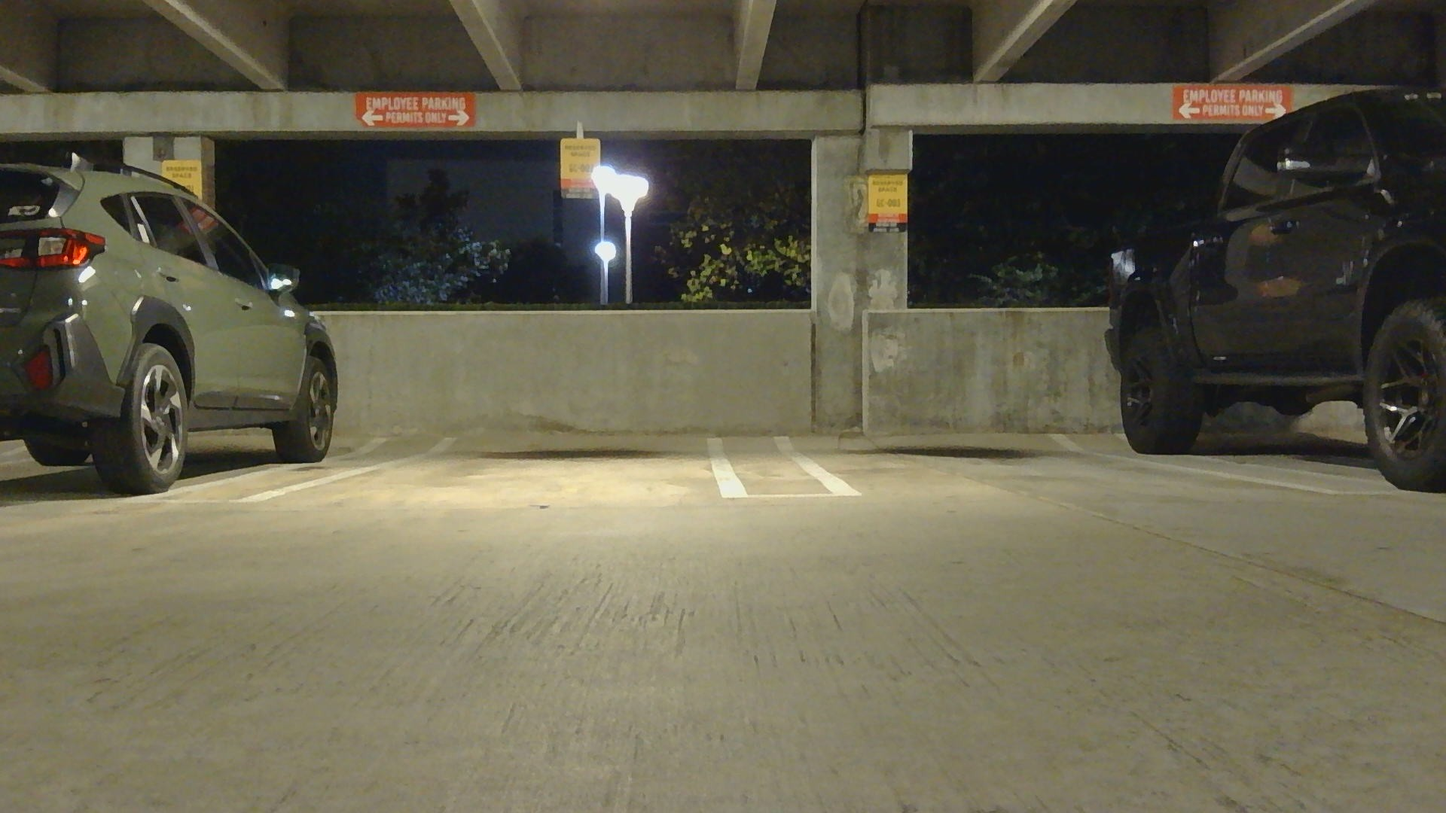empty_spot: (767, 370, 1339, 505), (232, 372, 749, 499)
occupied_spot: (1098, 85, 1446, 488), (2, 162, 340, 498)
